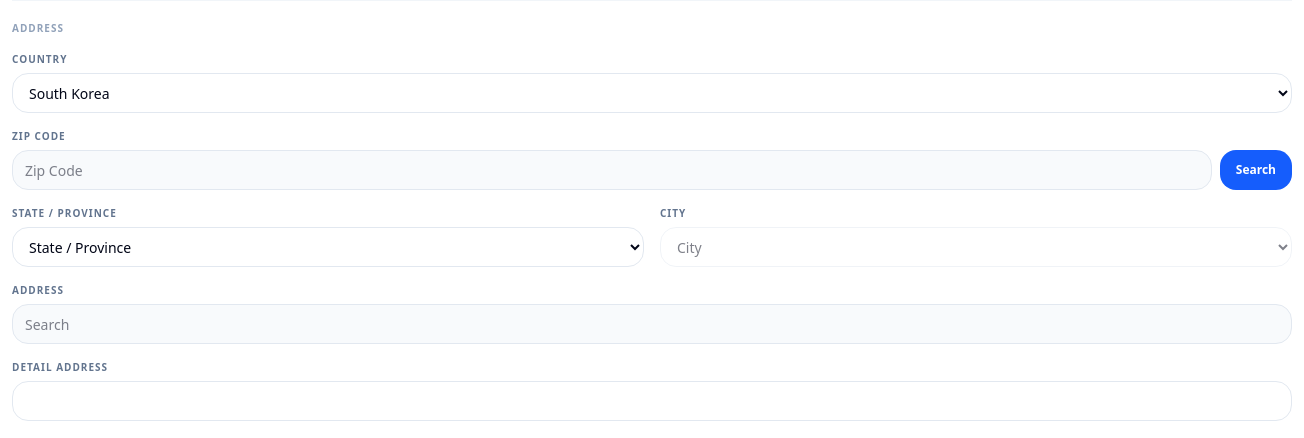
Test: TC-P7-UI-ADDR-01: 국가 KR 선택 시 주소 검색 버튼 표시 확인 › US 선택 시: 주소 검색 버튼 미표시, state/city select 표시
Select "United States" in the dropdown below "Country" at (652, 93), box [12,73,1292,113]
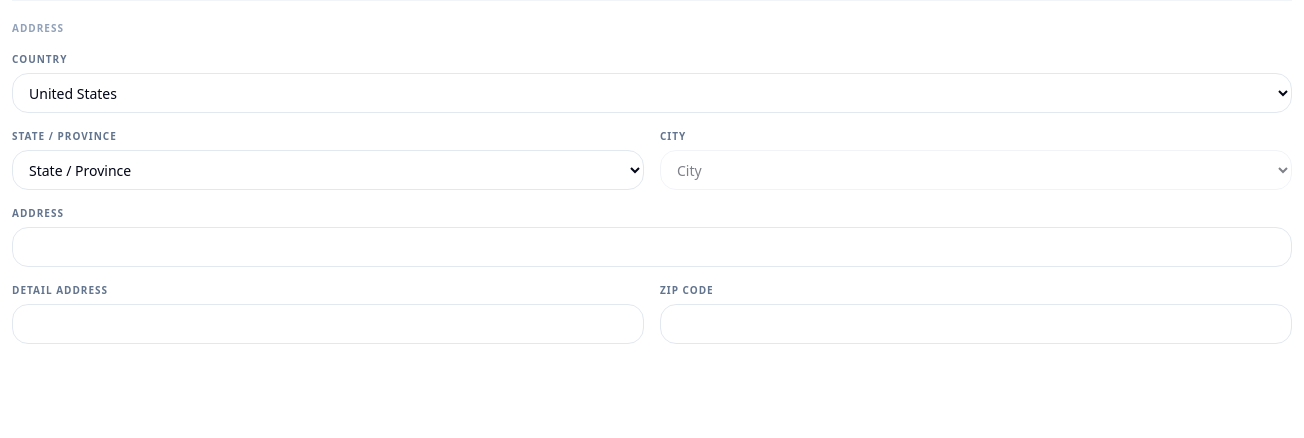
Check: the button "Search" is gone
